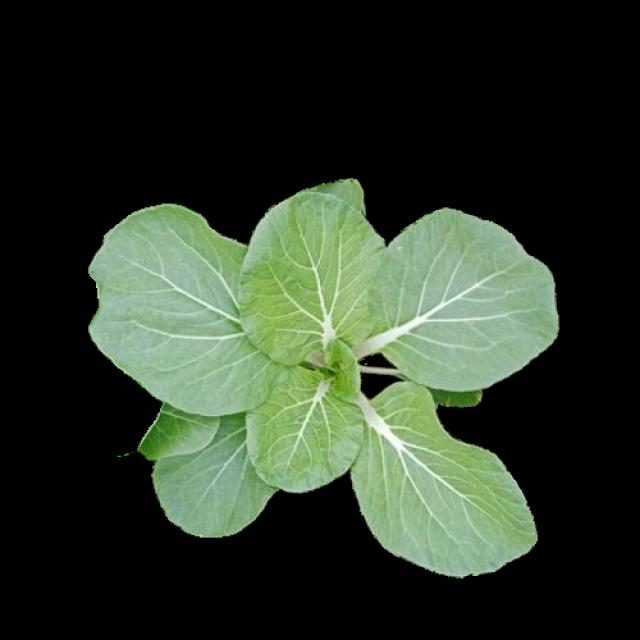healthy: (89, 177, 556, 571)
mature: (91, 180, 558, 574)
